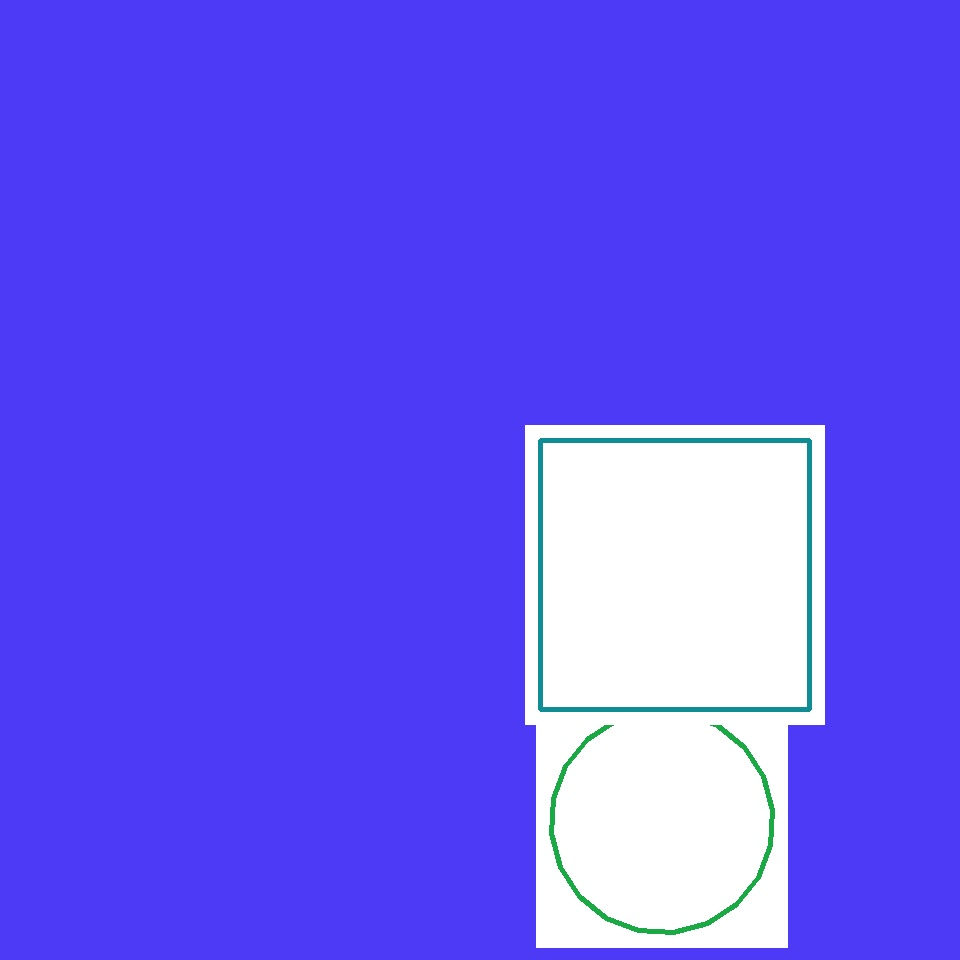circle: (536, 714, 702, 903), (70, 236, 150, 316)
square: (540, 440, 810, 710)
triangle: (632, 556, 902, 824), (552, 712, 772, 932)
